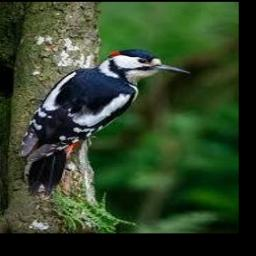Woodpecker: (17, 49, 190, 195)
